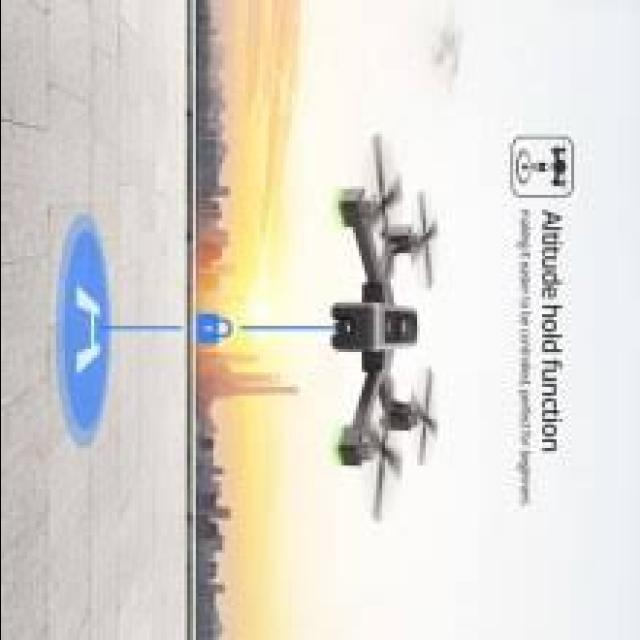drone: (306, 132, 456, 511)
